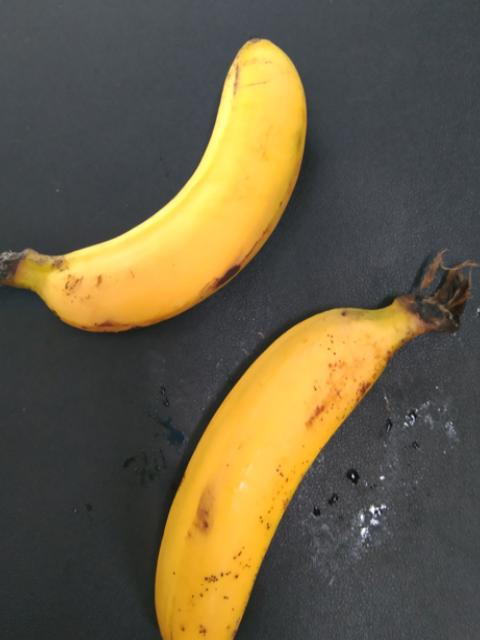freshripe: (4, 25, 311, 341)
ripe: (117, 282, 399, 639)
